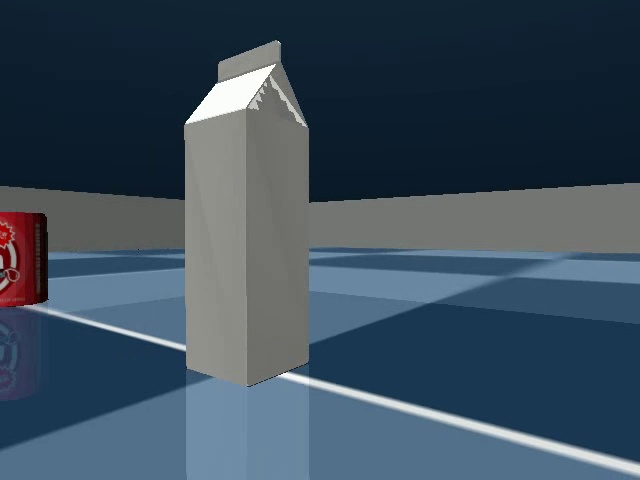can: (1, 205, 55, 313)
milk: (172, 30, 321, 398)
